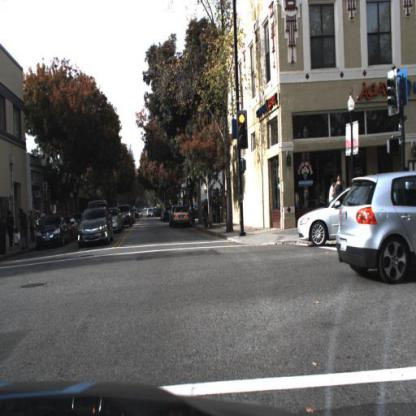car: (338, 171, 416, 289), (296, 187, 356, 253), (78, 208, 113, 247), (38, 215, 70, 249), (172, 207, 193, 230), (112, 207, 125, 235), (124, 203, 137, 231)
pedestrian: (406, 167, 416, 235), (19, 203, 30, 256), (20, 204, 28, 251), (329, 177, 337, 219), (29, 208, 37, 247), (7, 207, 14, 249), (214, 194, 222, 230), (226, 188, 232, 236), (336, 173, 344, 207), (13, 227, 20, 250)
trafficLight: (237, 111, 249, 152)
